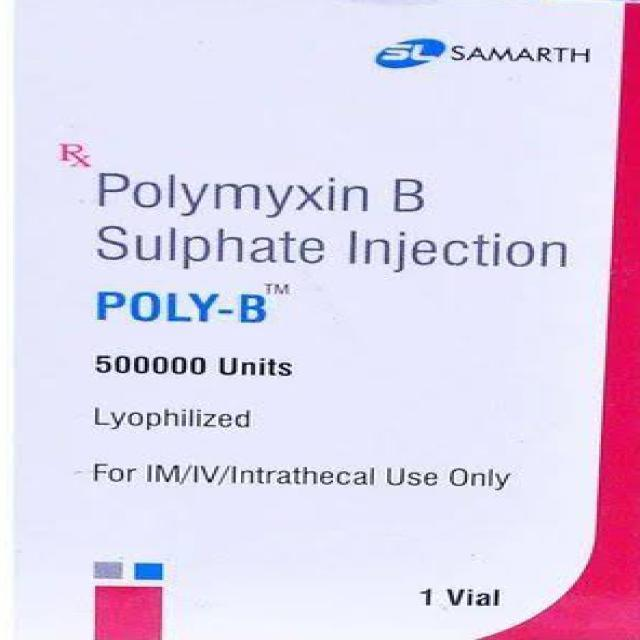drug-name: (91, 278, 292, 331)
